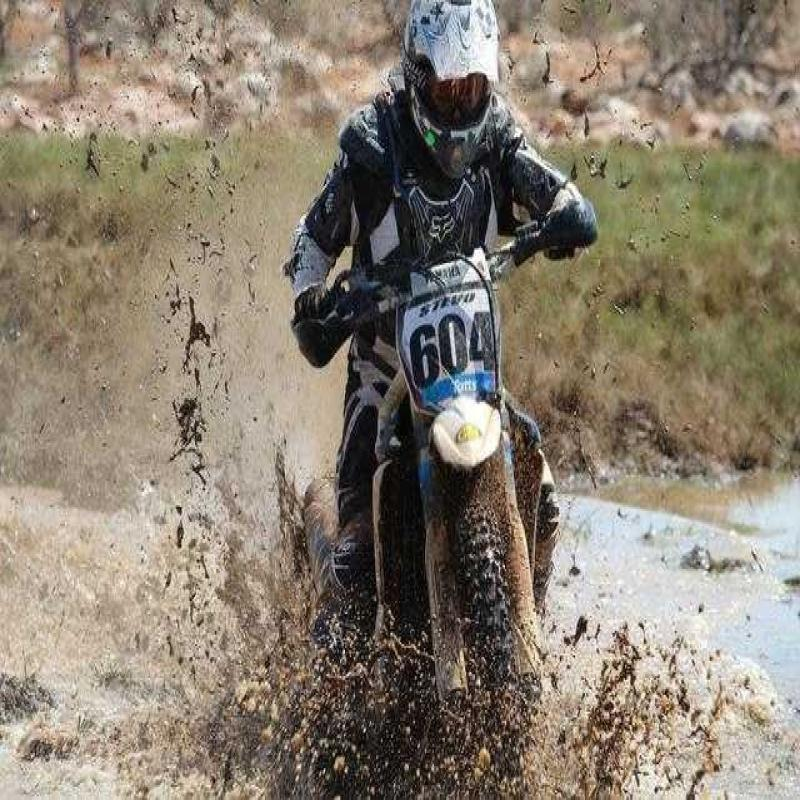bike: (298, 209, 608, 730)
